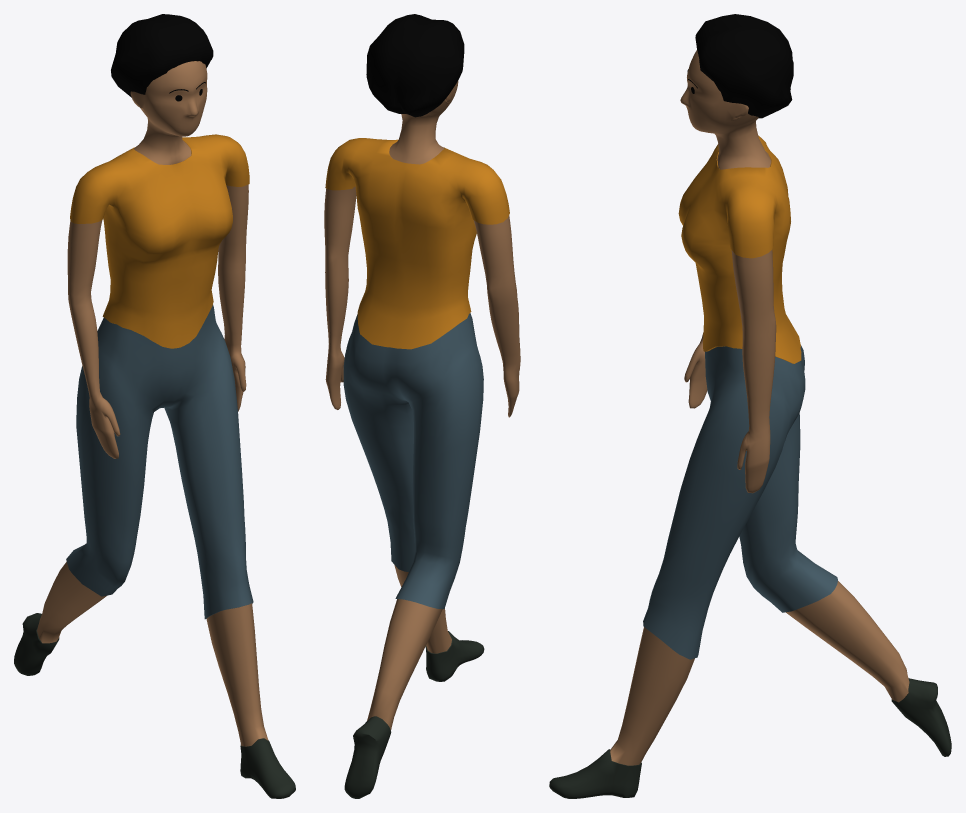
File: Female_Walking_1.glb
The picture shows the model from 3 angles, left to right: view 1: azimuth 30°, elevation 25°; view 2: azimuth 150°, elevation 25°; view 3: azimuth 270°, elevation 25°; orthographic projection. The views are drawn at different scales.
Parts seen in each view (by area): view 1: Female-walking-1; view 2: Female-walking-1; view 3: Female-walking-1.
Boxes of the visible parts, box(x1,y1,x2,y2) form: Female-walking-1: box(14, 14, 295, 798); Female-walking-1: box(324, 14, 520, 798); Female-walking-1: box(549, 14, 951, 798).
Size of the model in its own units: 0.4411 by 1.66 by 0.7986.
